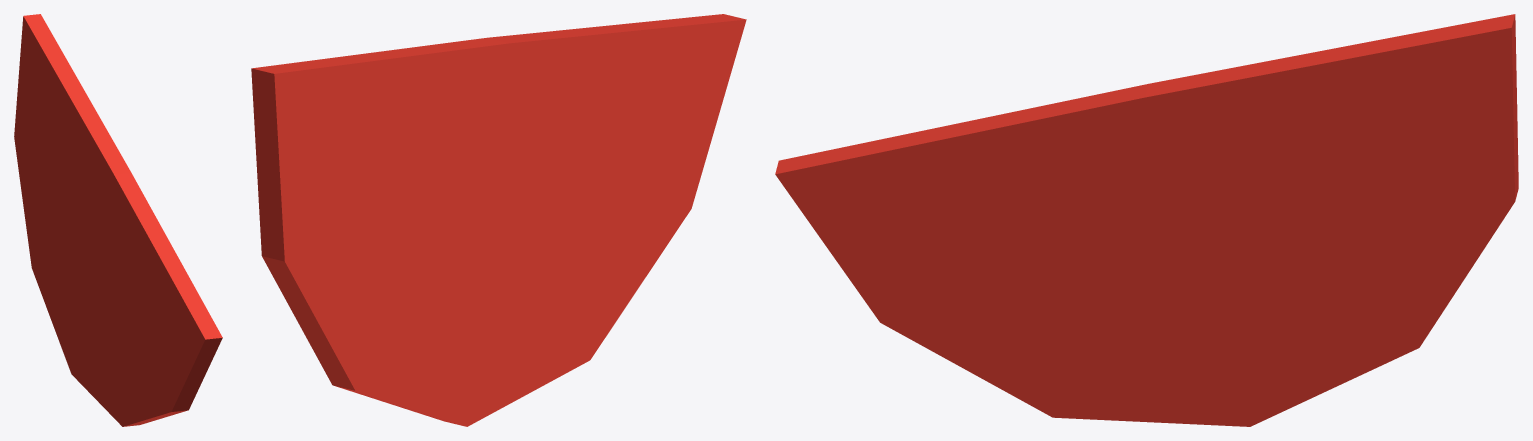
Rendered from n5_n5_group1251093246_lev5.001.glb.
3 renders of one model, left to right at view 1: azimuth 30°, elevation 25°; view 2: azimuth 150°, elevation 25°; view 3: azimuth 270°, elevation 25°, orthographic. The views are drawn at different scales.
Parts seen in each view (by area): view 1: n5_n5_group1251093246_lev5.001; view 2: n5_n5_group1251093246_lev5.001; view 3: n5_n5_group1251093246_lev5.001.
Part boxes in pixels (<box>): n5_n5_group1251093246_lev5.001: <box>14,14,222,426</box>; n5_n5_group1251093246_lev5.001: <box>251,14,746,426</box>; n5_n5_group1251093246_lev5.001: <box>775,14,1518,426</box>.
Bounding box in the file's own units: 0.2246 × 0.7748 × 1.21.
